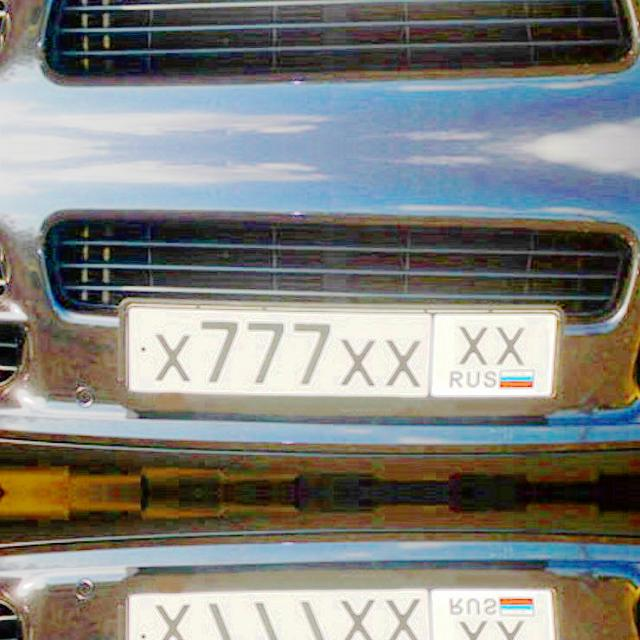citizen: (118, 293, 562, 405), (117, 580, 562, 640)
